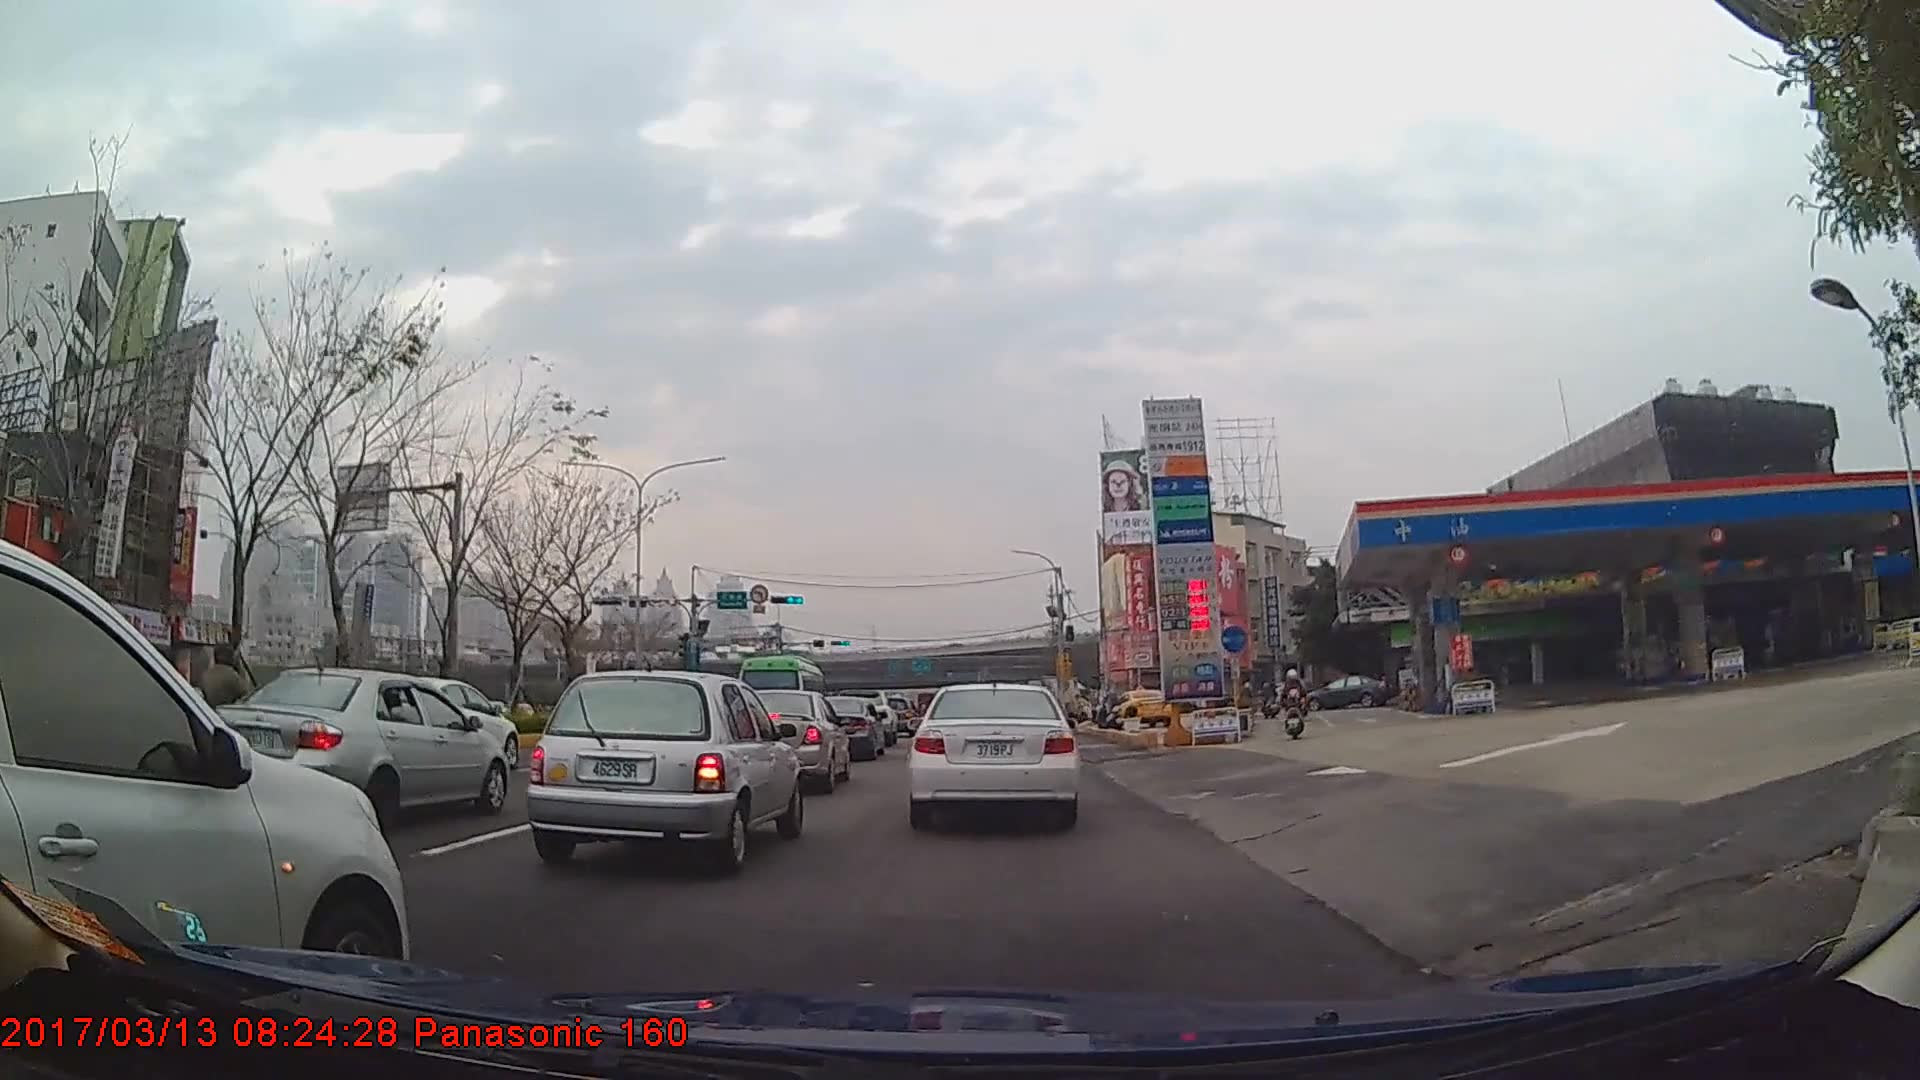rider: (197, 638, 251, 771), (1283, 668, 1304, 736), (1283, 670, 1306, 724)
vehicle: (0, 538, 403, 1013), (523, 668, 802, 874), (208, 664, 505, 818), (908, 677, 1078, 830), (722, 685, 851, 796), (731, 650, 826, 726), (805, 695, 885, 758), (1011, 677, 1096, 726), (1296, 672, 1391, 709), (1113, 686, 1172, 726)
